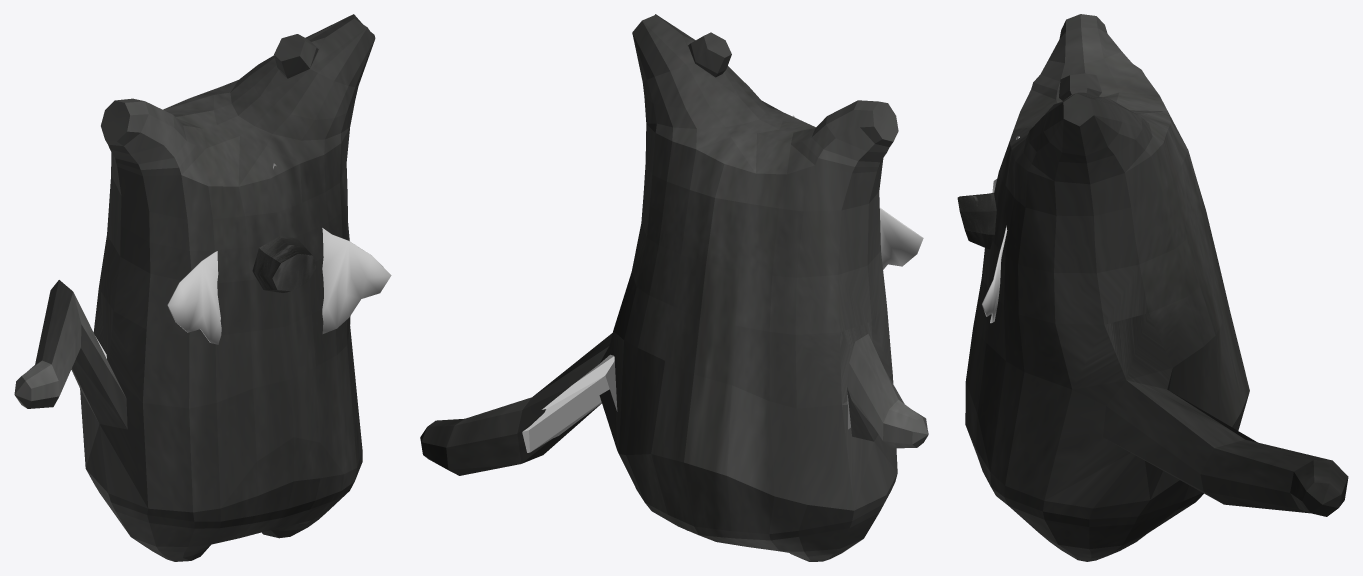
The model's file is frame_0036.obj.
3 views of the same model, side by side, from view 1: azimuth 30°, elevation 25°; view 2: azimuth 150°, elevation 25°; view 3: azimuth 270°, elevation 25° (orthographic).
Visible parts, largest first — view 1: korok, leaf, nose; view 2: korok, leaf; view 3: korok, nose, leaf.
Boxes of the visible parts, x1=… form: korok: x1=14, y1=14, x2=375, y2=561; leaf: x1=167, y1=163, x2=391, y2=344; nose: x1=252, y1=236, x2=316, y2=292; korok: x1=420, y1=14, x2=928, y2=561; leaf: x1=792, y1=115, x2=923, y2=269; korok: x1=965, y1=14, x2=1348, y2=561; nose: x1=957, y1=192, x2=996, y2=249; leaf: x1=982, y1=136, x2=1019, y2=323.
Size of the model in its own units: 1.96 by 2.25 by 1.6.
